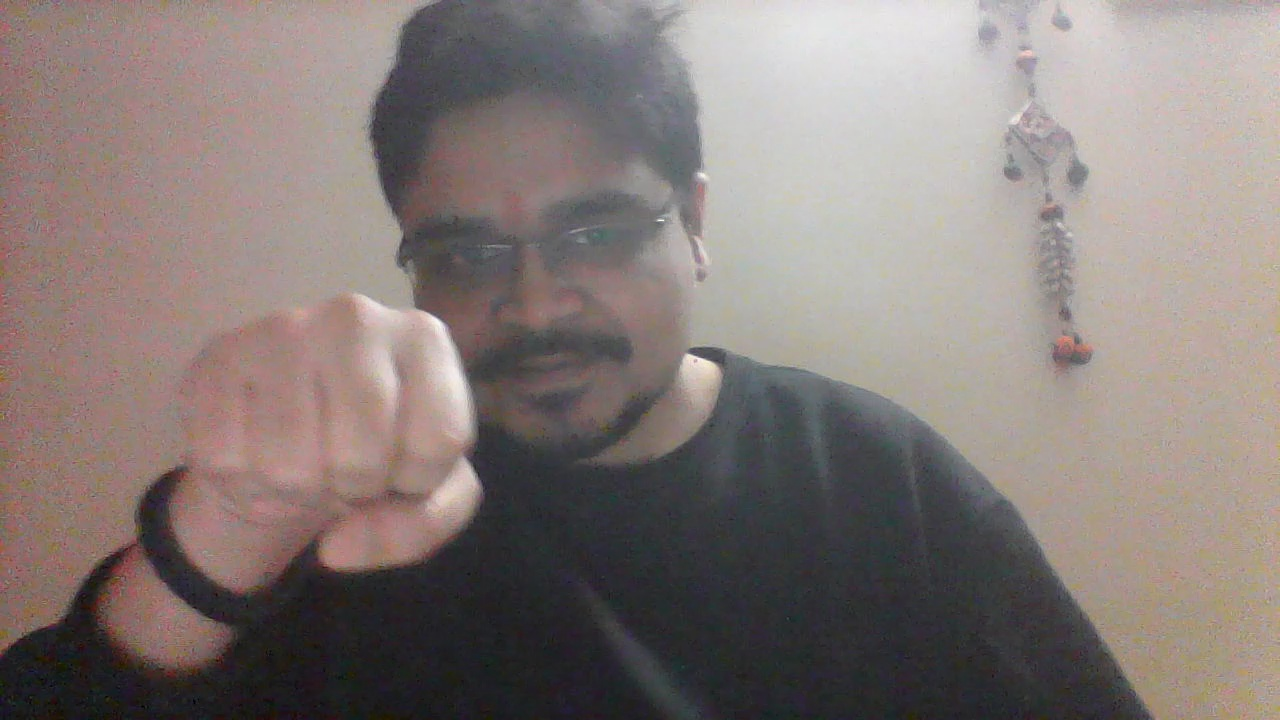Yes: (177, 289, 484, 582)
